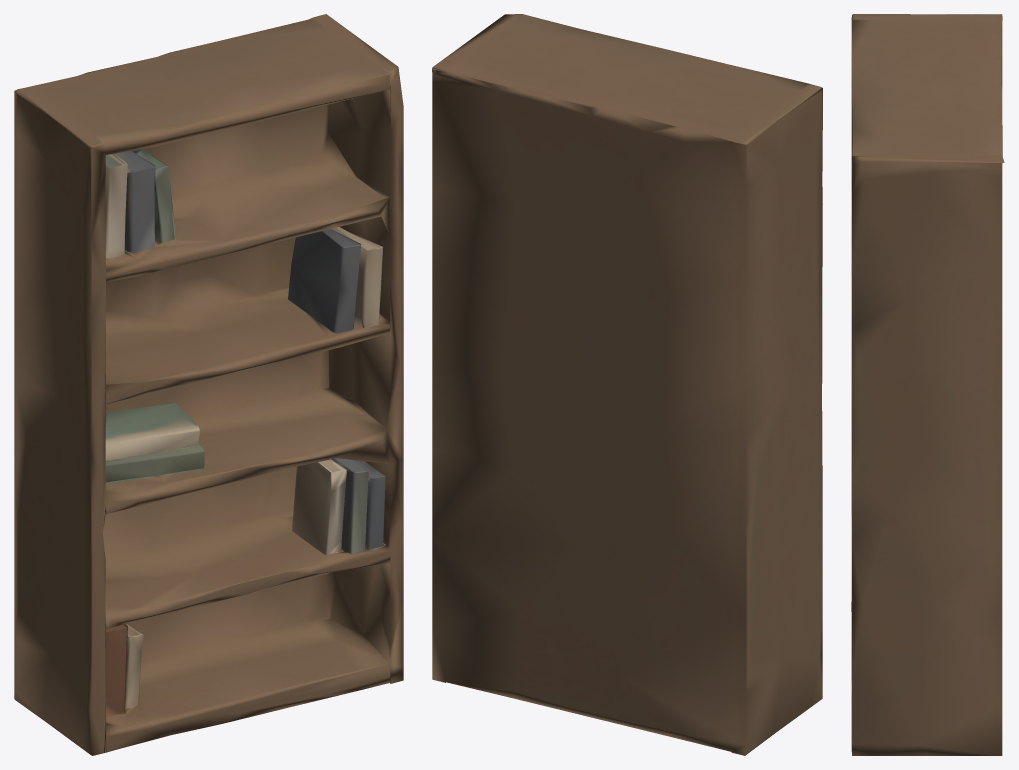
Rendered from ENV_BOOKSHELF_v001_RAW.glb.
The picture shows the model from 3 angles, left to right: view 1: azimuth 30°, elevation 25°; view 2: azimuth 150°, elevation 25°; view 3: azimuth 270°, elevation 25°; orthographic projection. The views are drawn at different scales.
Visible parts, largest first — view 1: tripo_node_1a69bb7d-6044-4fd8-9c94-c0ab3a5ad612; view 2: tripo_node_1a69bb7d-6044-4fd8-9c94-c0ab3a5ad612; view 3: tripo_node_1a69bb7d-6044-4fd8-9c94-c0ab3a5ad612.
Part boxes in pixels (box(x1,y1,x2,y2)): tripo_node_1a69bb7d-6044-4fd8-9c94-c0ab3a5ad612: box(14, 14, 403, 755); tripo_node_1a69bb7d-6044-4fd8-9c94-c0ab3a5ad612: box(432, 14, 822, 755); tripo_node_1a69bb7d-6044-4fd8-9c94-c0ab3a5ad612: box(851, 14, 1004, 755).
Bounding box in the file's own units: 0.5254 × 0.9802 × 0.2288.
Materials: 1 (1 with a texture image).
